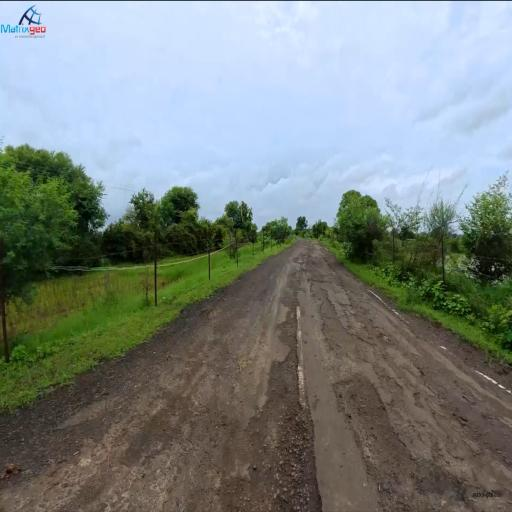ravelling: (357, 312, 430, 484), (282, 254, 332, 490), (172, 367, 260, 481)
